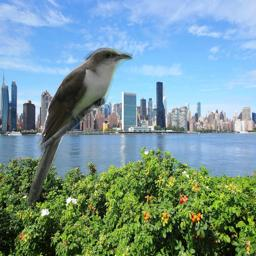Cuckoo: (23, 46, 133, 210)
